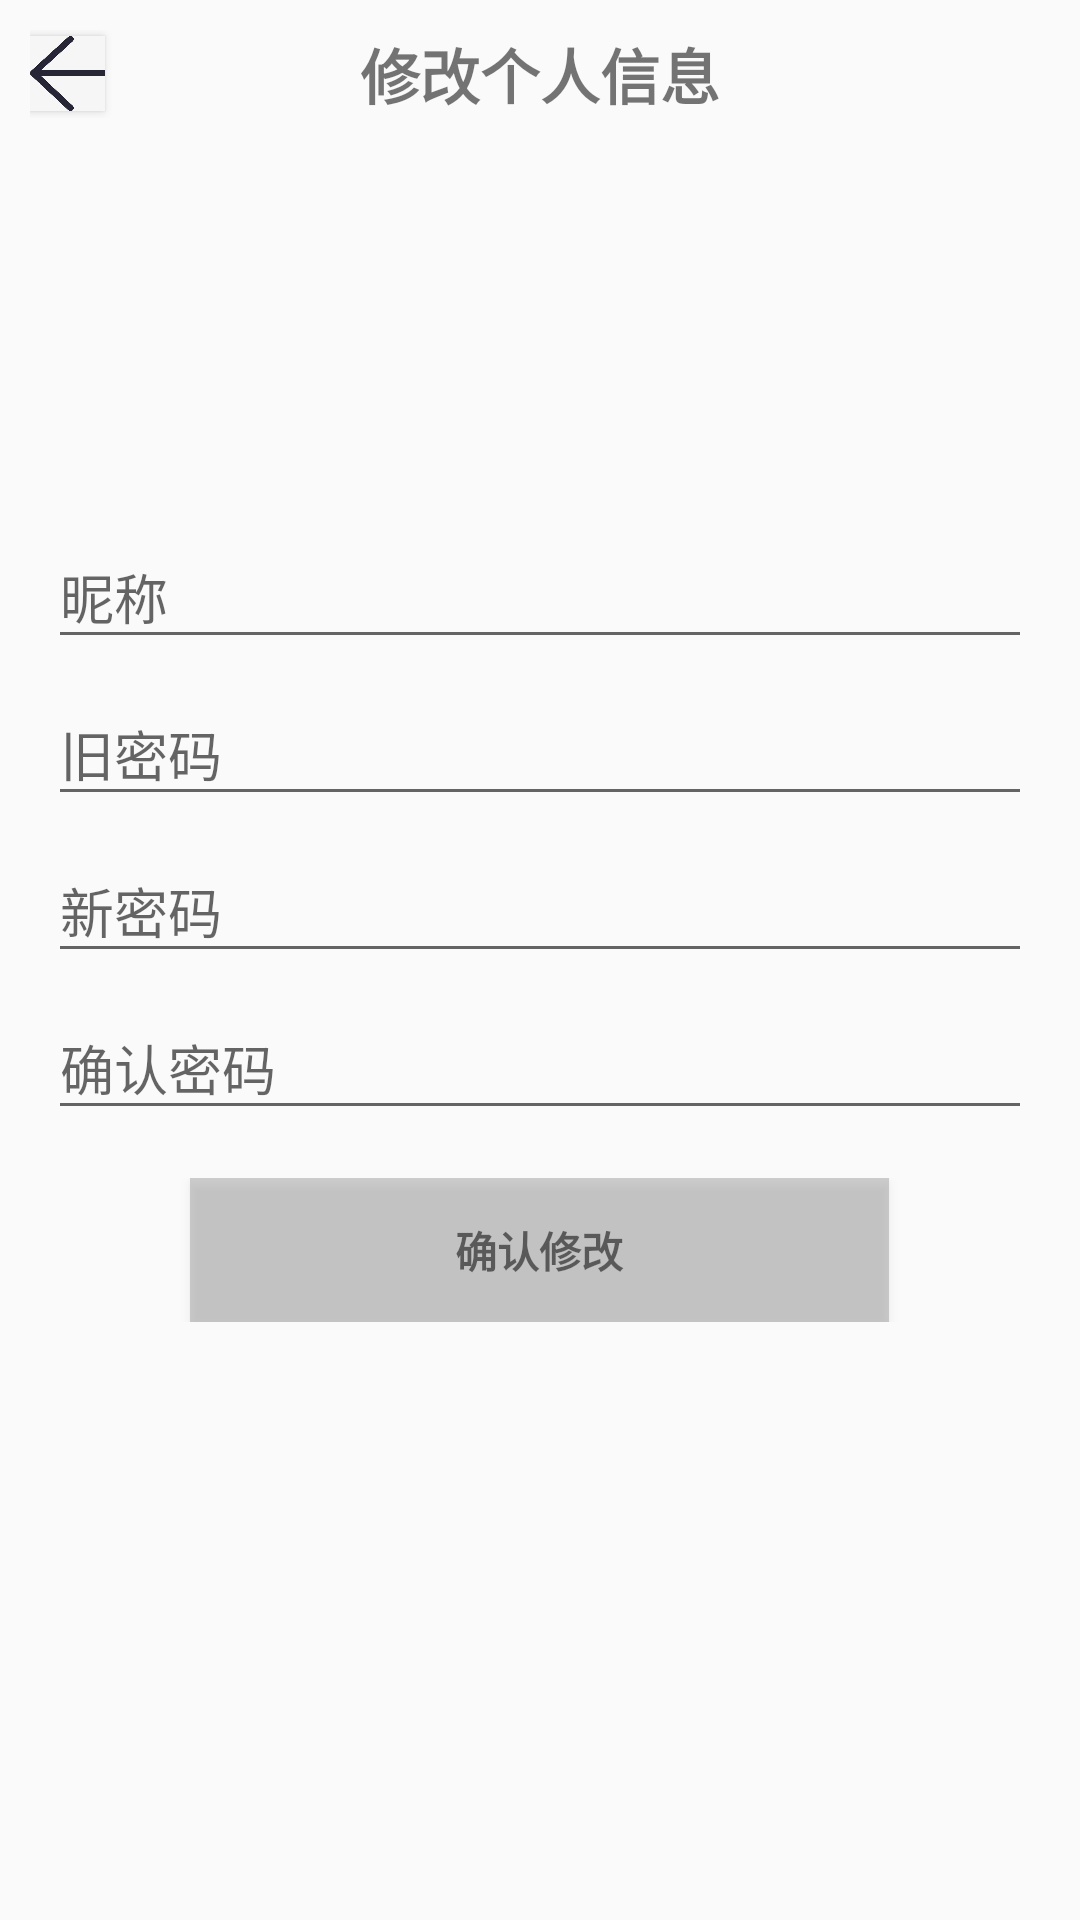

Point at icon controls on the screen. Image size 1080×1920, points as point (x, y).
back: point (67, 73)
